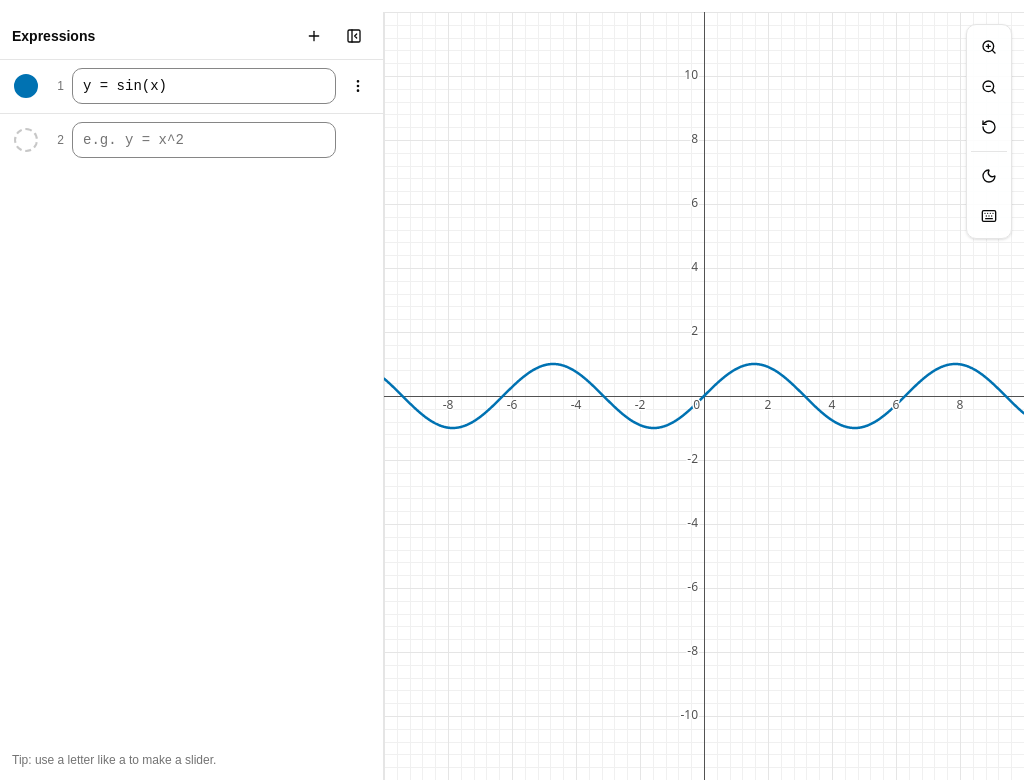
Test case: row controls › overflow menu offers Colour…, Table of values and Delete
Click the button named "More options for expression 1": (358,86) [340,68,376,104]
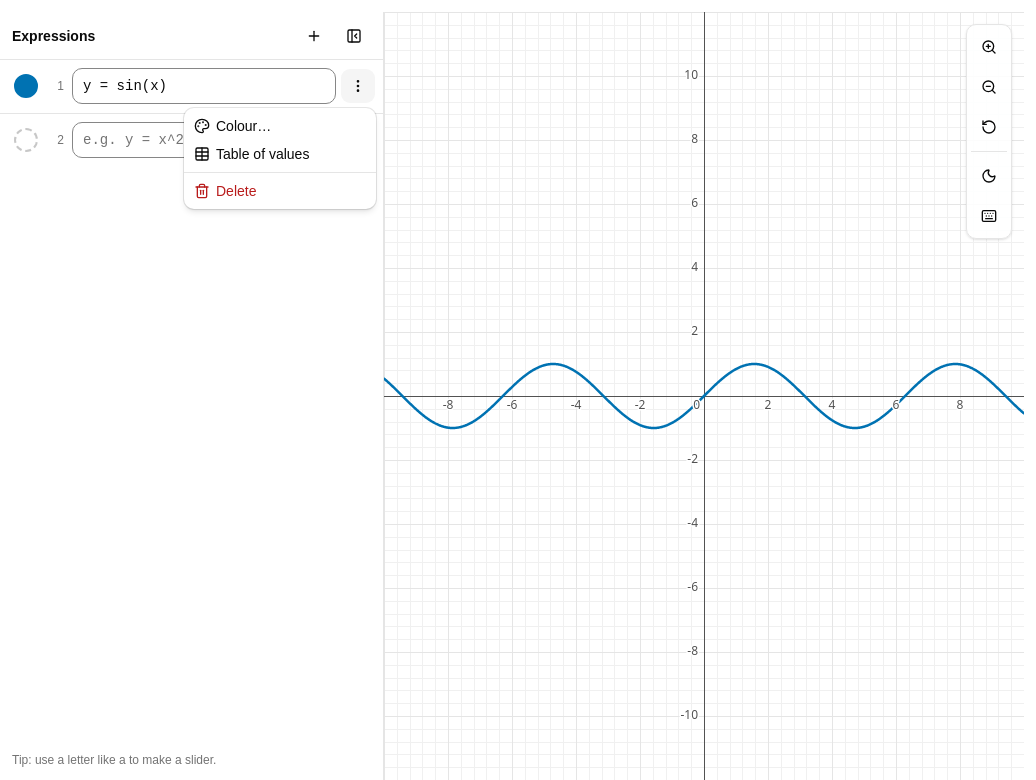
Expected: the menu items read "Colour…", "Table of values", "Delete", in this order, [194,118,271,134]; [194,146,309,162]; [194,183,256,199]
